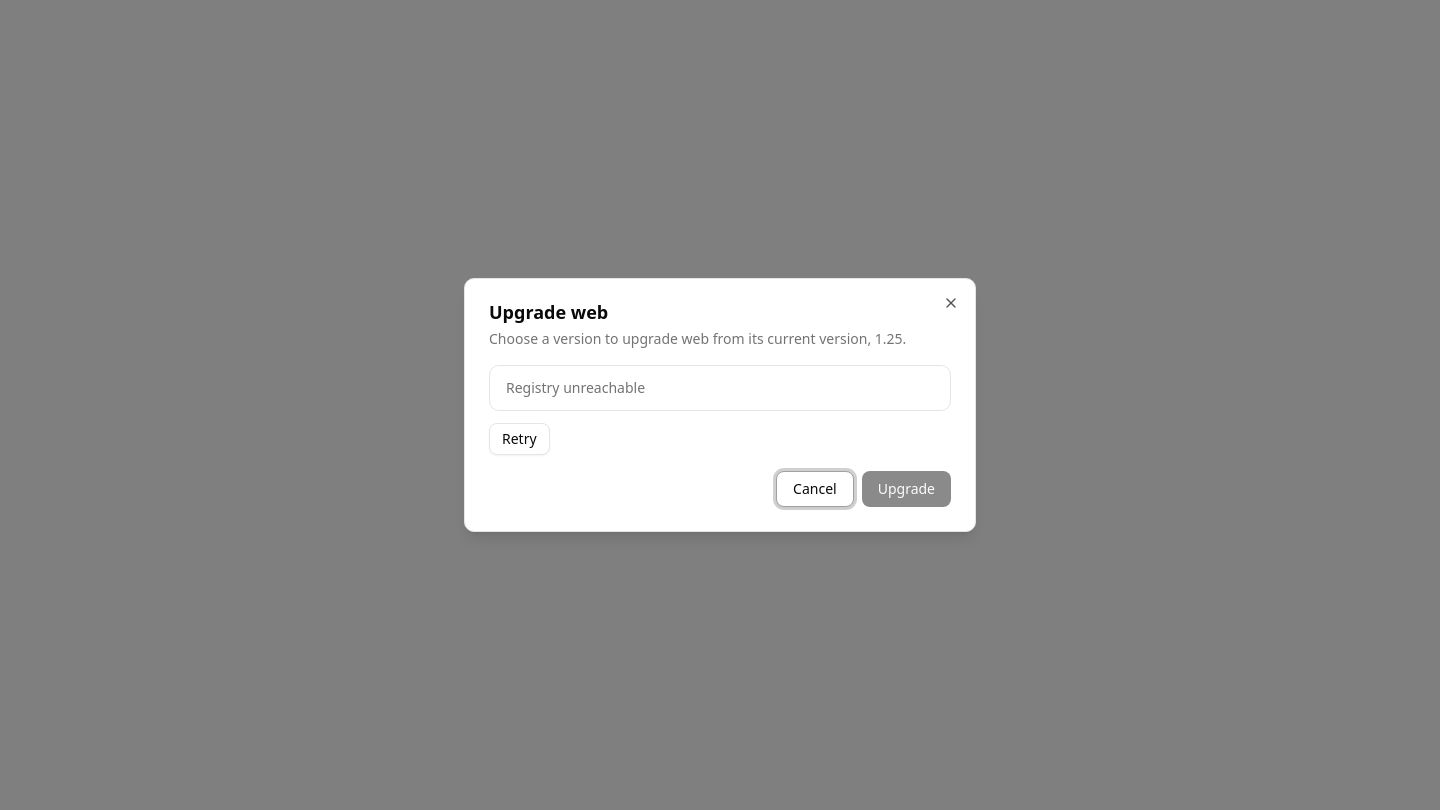
Test: ServiceUpgradeDialog › renders the error message and a working retry on a failed request
This screenshot has width=1440, height=810.
Expected: the text "Registry unreachable" is shown, [506,378,645,397]
Click the button "Retry": [519, 439] box [489,423,550,455]
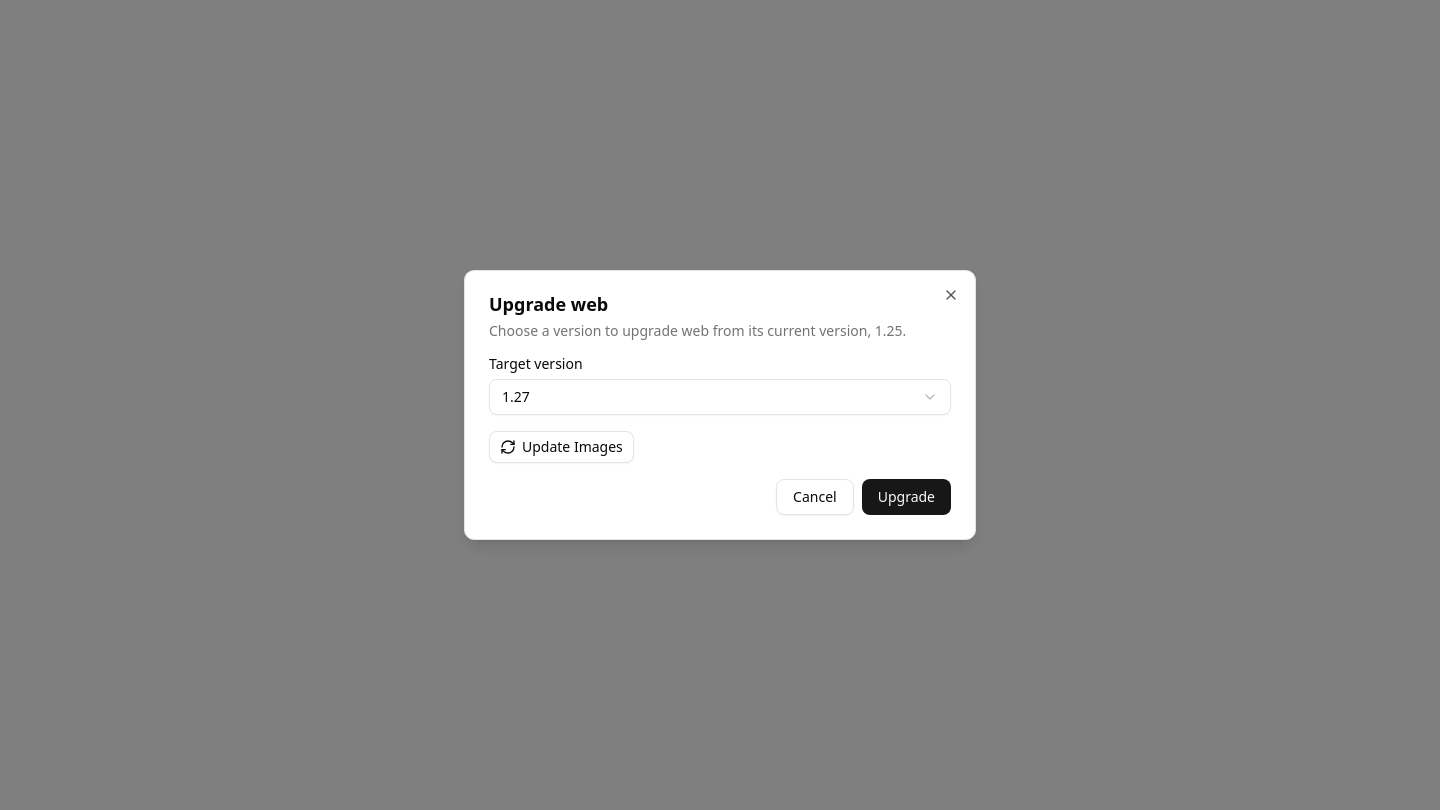
Now the dropdown named "target version" is shown, box [489,379,951,415]
